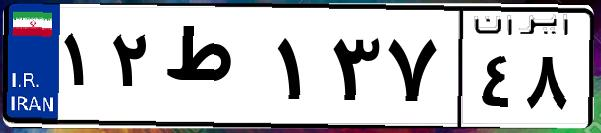1: (270, 28, 330, 110), (57, 26, 110, 100)
2: (110, 28, 158, 98)
3: (330, 28, 385, 110)
4: (475, 38, 525, 113)
7: (385, 28, 445, 110)
8: (525, 38, 570, 115)
ط: (158, 20, 270, 120)
